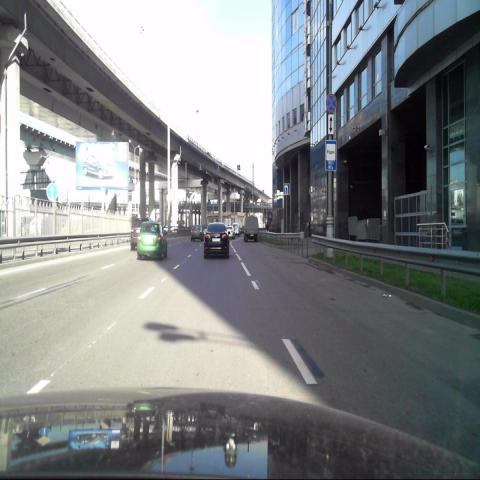7_15: (325, 139, 337, 171)
